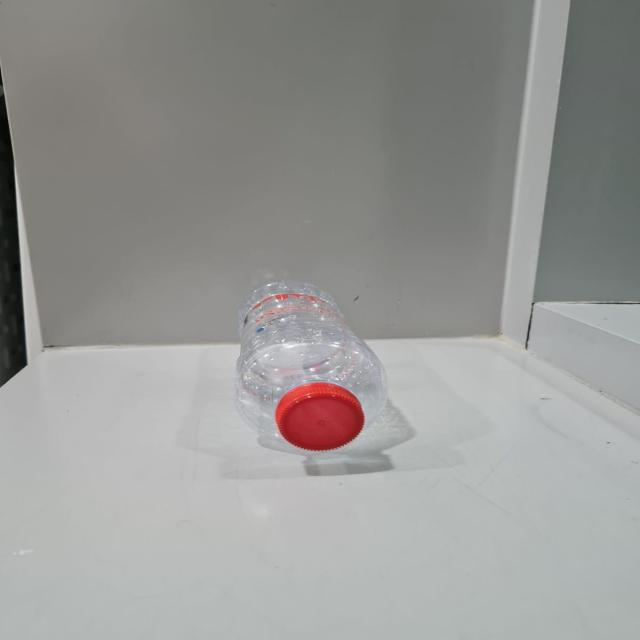bottle: (221, 273, 412, 468)
